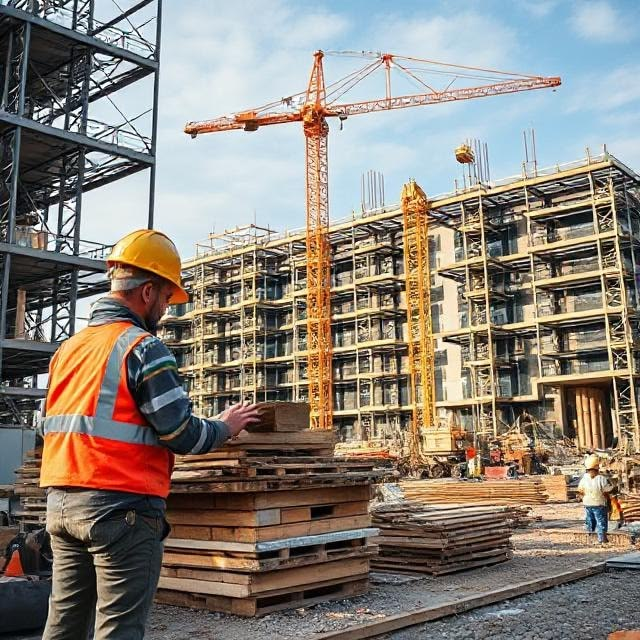crane: (186, 40, 401, 436)
hardhat: (104, 220, 198, 294)
no_hardhat: (575, 447, 603, 483)
no_safety_vest: (565, 465, 614, 514)
person: (29, 184, 215, 636), (566, 444, 626, 555)
safety_vest: (40, 308, 166, 501)
